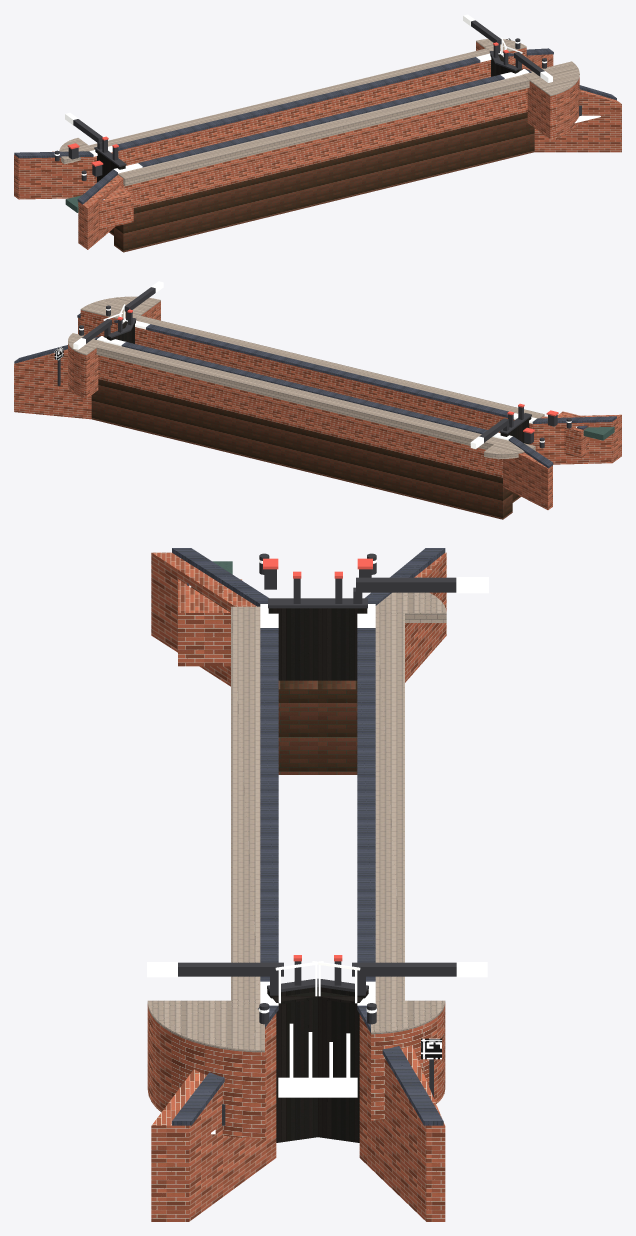
File: lock-24.glb
3 renders of one model, top to bottom at view 1: azimuth 30°, elevation 25°; view 2: azimuth 150°, elevation 25°; view 3: azimuth 270°, elevation 25°, orthographic. The views are drawn at different scales.
Parts seen in each view (by area): view 1: Chamber, ChamberWet, Edge, Coping.001, TopGateCap, Coping, TopGate; view 2: Chamber, ChamberWet, Edge, Coping.001, TopGateCap, Coping, TopGate, WeirWater; view 3: Chamber, Edge, Coping.001, TopGate, TopGateCap, ChamberWet, Coping, Leak.
Boxes of the visible parts, x1=… form: Chamber: x1=14, y1=42, x2=621, y2=249; ChamberWet: x1=109, y1=112, x2=534, y2=252; Edge: x1=59, y1=39, x2=579, y2=186; Coping.001: x1=14, y1=48, x2=616, y2=204; TopGateCap: x1=55, y1=20, x2=581, y2=180; Coping: x1=54, y1=14, x2=552, y2=175; TopGate: x1=95, y1=54, x2=522, y2=182; Chamber: x1=14, y1=301, x2=621, y2=509; ChamberWet: x1=91, y1=379, x2=520, y2=519; Edge: x1=68, y1=296, x2=544, y2=458; Coping.001: x1=14, y1=313, x2=616, y2=468; TopGateCap: x1=57, y1=287, x2=571, y2=448; Coping: x1=73, y1=281, x2=571, y2=448; TopGate: x1=103, y1=321, x2=531, y2=444; WeirWater: x1=583, y1=426, x2=614, y2=440; Chamber: x1=147, y1=552, x2=446, y2=1221; Edge: x1=147, y1=592, x2=446, y2=1052; Coping.001: x1=172, y1=548, x2=445, y2=1125; TopGate: x1=267, y1=608, x2=368, y2=1142; TopGateCap: x1=178, y1=553, x2=456, y2=1125; ChamberWet: x1=278, y1=680, x2=357, y2=774; Coping: x1=147, y1=559, x2=488, y2=1013; Leak: x1=189, y1=585, x2=357, y2=1134.
Bounding box in the file's own units: 32.69 × 5.52 × 9.04.
Materials: 11 (8 with a texture image).
